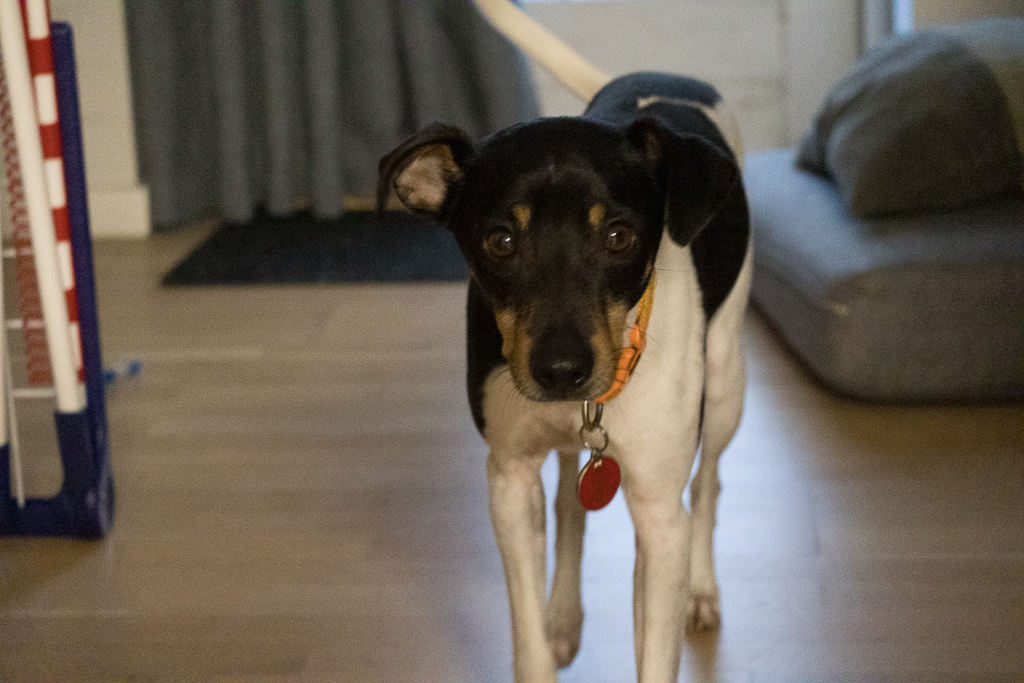Dog: (369, 0, 773, 683)
